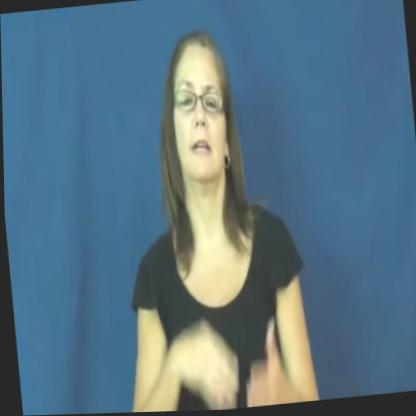Expensive: (154, 235, 289, 413)
